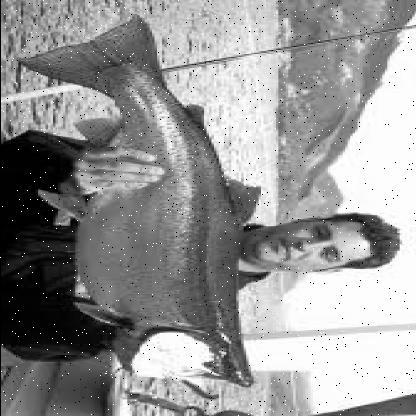fish: (27, 18, 264, 400)
